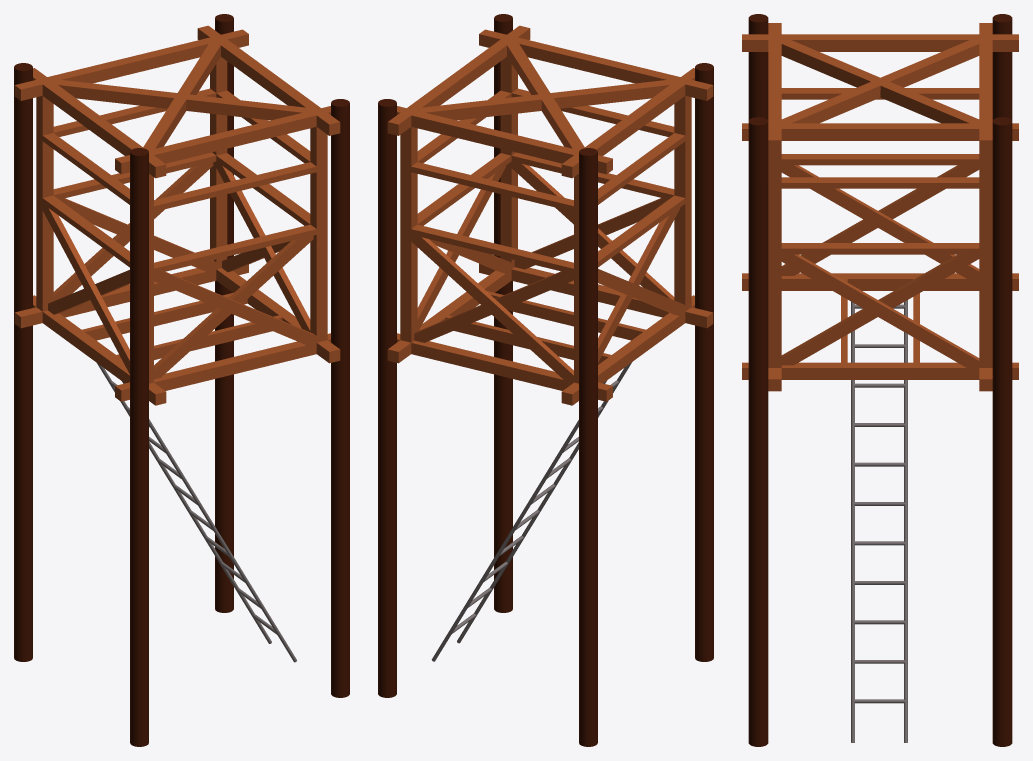
File: posed.obj
The picture shows the model from 3 angles, left to right: view 1: azimuth 30°, elevation 25°; view 2: azimuth 150°, elevation 25°; view 3: azimuth 270°, elevation 25°; orthographic projection. The views are drawn at different scales.
Parts seen in each view (by area): view 1: stlp.003, stlp.001, stlp.004, stlp.002, Solid.019, Solid_37, Solid_29, Solid.006, Solid_21, Solid.030, Solid.010, Solid.031 (+26 smaller); view 2: stlp.004, stlp.002, stlp.003, stlp.001, Solid.017, Solid_33, Solid_24, Solid.034, Solid.010, Solid_30, Solid.006, Solid_37 (+26 smaller); view 3: stlp.001, stlp.002, Solid.012, Solid.017, Solid.019, Solid_36, Solid.029, Solid.028, Solid_33, Solid_37, Solid.003, Solid.032 (+14 smaller).
Boxes of the visible parts, <box> form: stlp.003: <box>130,148,148,746</box>; stlp.001: <box>331,99,349,697</box>; stlp.004: <box>14,63,32,661</box>; stlp.002: <box>215,14,233,612</box>; Solid.019: <box>54,80,309,120</box>; Solid_37: <box>310,127,327,342</box>; Solid_29: <box>36,96,53,311</box>; Solid.006: <box>148,111,316,163</box>; Solid_21: <box>154,341,316,390</box>; Solid.030: <box>154,235,313,379</box>; Solid.010: <box>47,37,215,83</box>; Solid.031: <box>154,271,316,345</box>; stlp.004: <box>579,148,597,746</box>; stlp.002: <box>378,99,396,697</box>; stlp.003: <box>695,63,713,661</box>; stlp.001: <box>494,14,512,612</box>; Solid.017: <box>418,80,673,120</box>; Solid_33: <box>400,127,417,342</box>; Solid_24: <box>674,96,691,311</box>; Solid.034: <box>411,235,573,382</box>; Solid.010: <box>411,111,579,163</box>; Solid_30: <box>411,340,573,390</box>; Solid.006: <box>512,37,680,83</box>; Solid_37: <box>500,57,517,268</box>; stlp.001: <box>748,117,768,746</box>; stlp.002: <box>992,117,1012,746</box>; Solid.012: <box>781,123,979,140</box>; Solid.017: <box>781,40,979,123</box>; Solid.019: <box>781,40,979,123</box>; Solid_36: <box>781,362,979,379</box>; Solid.029: <box>781,254,979,367</box>; Solid.028: <box>781,254,979,365</box>; Solid_33: <box>979,152,992,367</box>; Solid_37: <box>768,152,781,367</box>; Solid.003: <box>781,34,979,51</box>; Solid.032: <box>781,165,979,278</box>.
Size of what is drawn, in the model's own units: 210 by 521 by 210.
